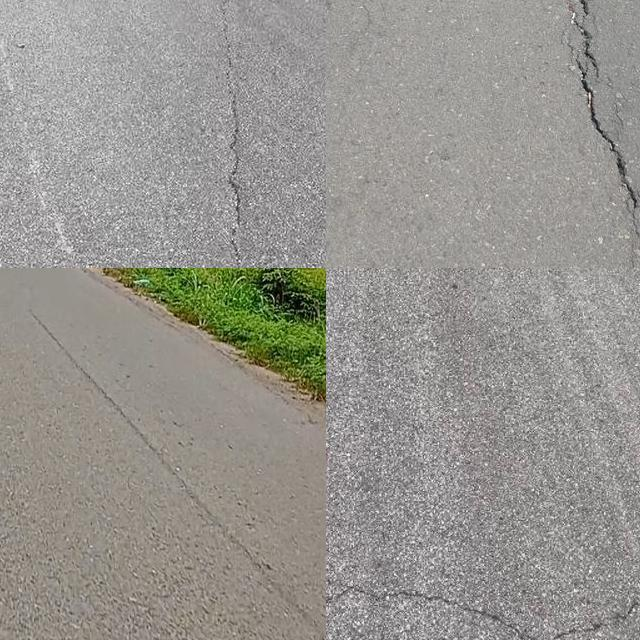Melintang: (326, 572, 640, 640)
Memanjang: (23, 296, 326, 640), (558, 0, 640, 268), (207, 0, 257, 268)
